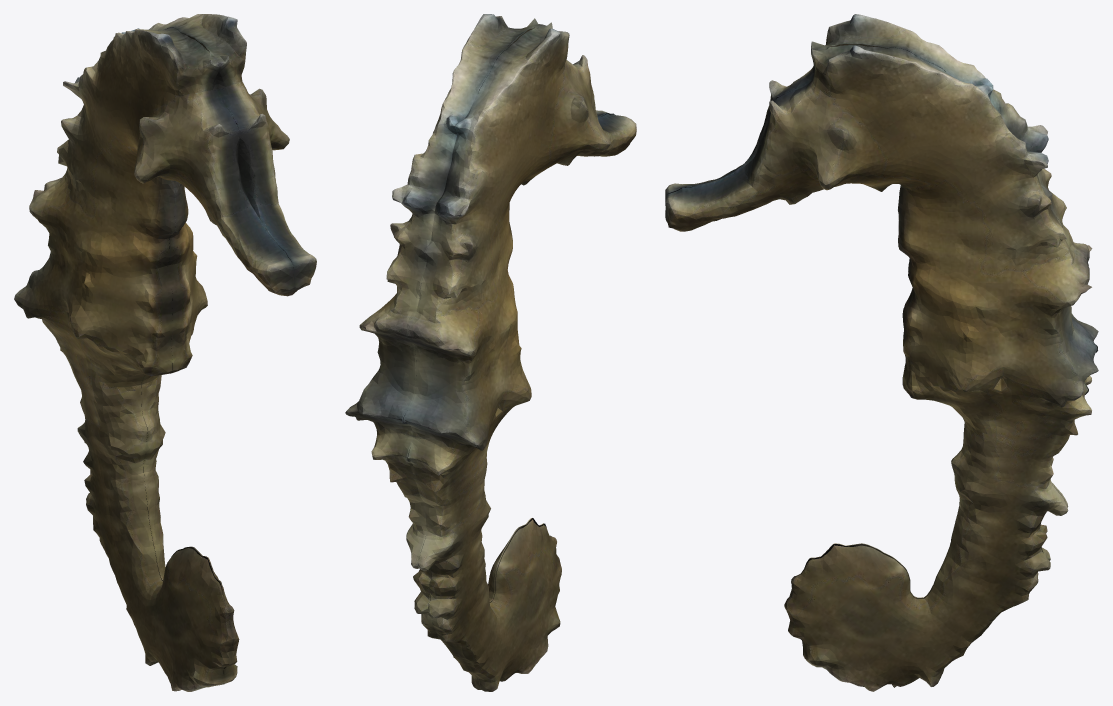
The picture shows the model from 3 angles, left to right: view 1: azimuth 30°, elevation 25°; view 2: azimuth 150°, elevation 25°; view 3: azimuth 270°, elevation 25°; orthographic projection. The views are drawn at different scales.
Visible parts, largest first — view 1: Mesh_0; view 2: Mesh_0; view 3: Mesh_0.
Part boxes in pixels (box(x1,y1,x2,y2)): Mesh_0: box(14, 14, 316, 691); Mesh_0: box(345, 14, 636, 691); Mesh_0: box(665, 14, 1098, 691).
Size of the model in its own units: 0.0517 by 0.2146 by 0.1284.
1 material, 1 textured.
